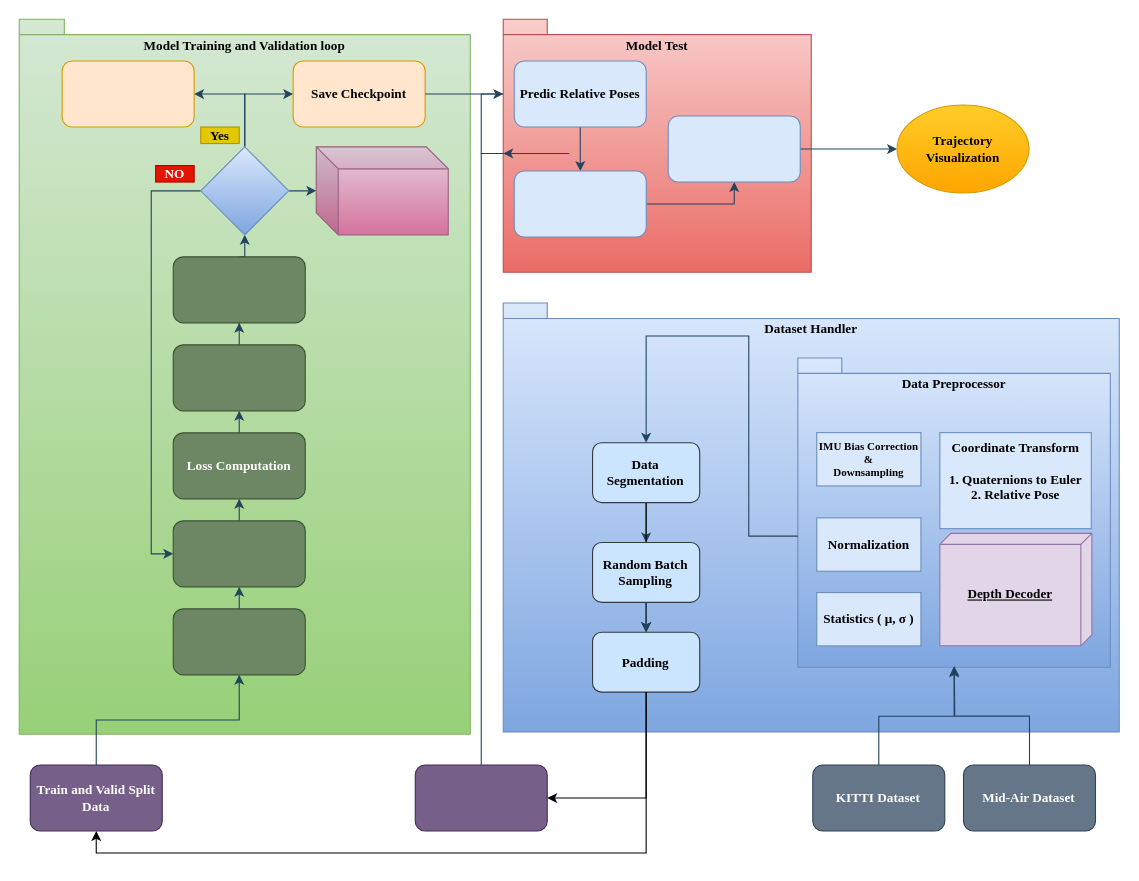
This 1139x881 diagram has some shape labels left out. The centre of each missing label's shape, as x and y in pixels:
Backpropagation: (238,377)
Early Stopping: (127,93)
End Epoch: (244,190)
Forward Pass: (238,553)
Ground truth Alignment: (579,203)
Metric Calculations: (733,148)
Model: (238,641)
Test Data: (480,797)
Weight & Biases Logger: (381,190)
Weight Update: (238,289)
